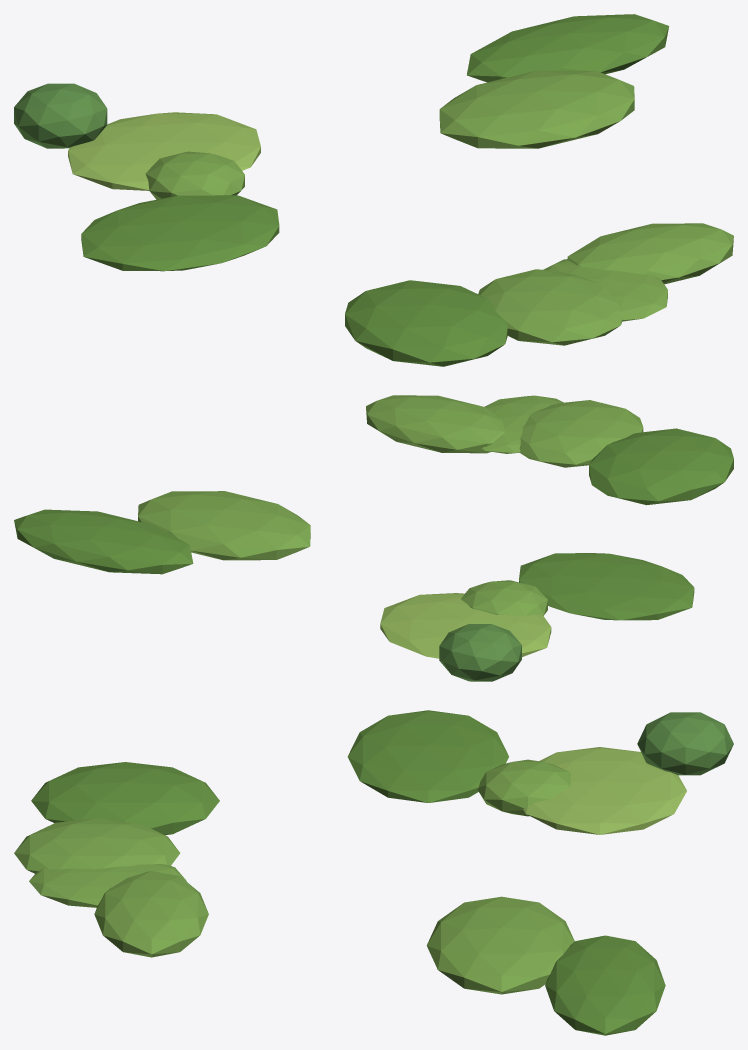
Rendered from Kir_cimen_sade_1.fbx.
The picture shows the model from 3 angles, top to bottom: view 1: azimuth 30°, elevation 25°; view 2: azimuth 150°, elevation 25°; view 3: azimuth 270°, elevation 25°; orthographic projection. The views are drawn at different scales.
Visible parts, largest first — view 1: Kir_cimen_sade_1; view 2: Kir_cimen_sade_1; view 3: Kir_cimen_sade_1.
Boxes of the visible parts, bbox=[...] form: Kir_cimen_sade_1: bbox=[14, 14, 733, 366]; Kir_cimen_sade_1: bbox=[14, 395, 733, 681]; Kir_cimen_sade_1: bbox=[14, 710, 733, 1035].
Size of the model in its own units: 21.04 by 1.92 by 19.76.
